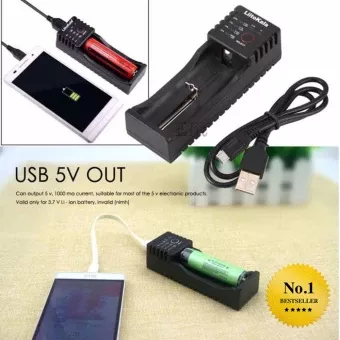Battery: (177, 244, 251, 290), (81, 36, 140, 80)
